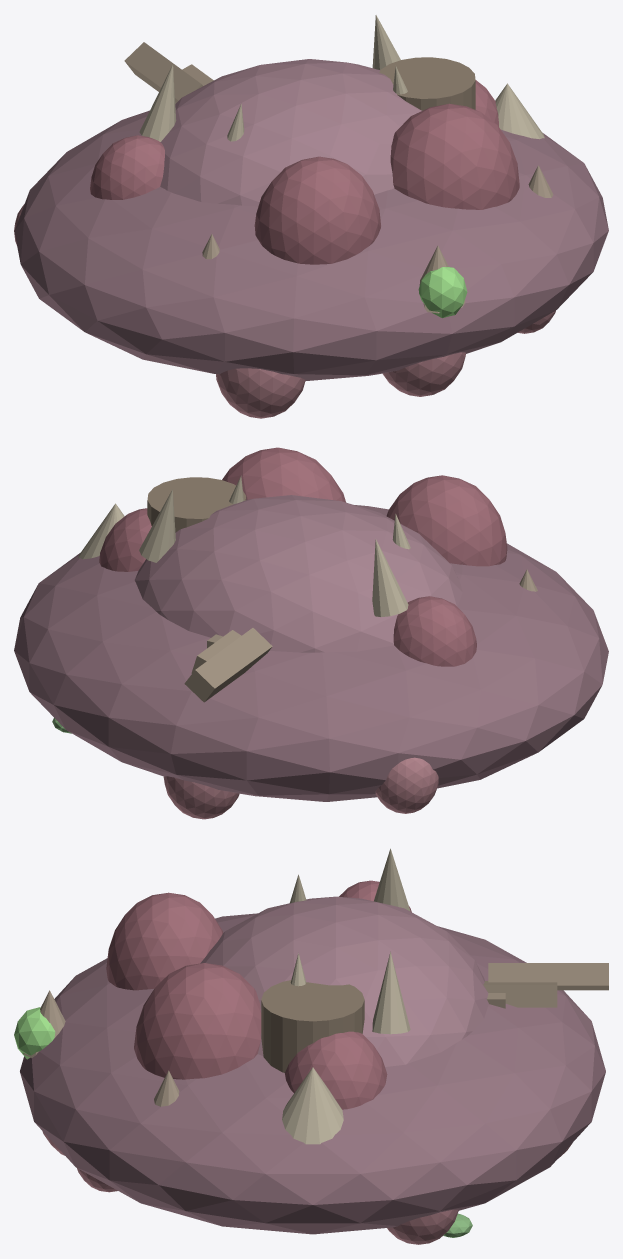
The model's file is zglengo_spitter_den.glb.
3 views of the same model, one above another, from view 1: azimuth 30°, elevation 25°; view 2: azimuth 150°, elevation 25°; view 3: azimuth 270°, elevation 25° (orthographic). The views are drawn at different scales.
Visible parts, largest first — view 1: base_mound, back_mass, breathe_sac_3, breathe_sac_2, breathe_sac_0, gun_organ, bubo_2, bubo_5, rib_4, acid_sac, spine_2, muzzle (+2 smaller); view 2: base_mound, back_mass, breathe_sac_2, breathe_sac_0, breathe_sac_3, gun_organ, rib_4, bubo_0, breathe_sac_1, bubo_4, spine_2, spine_3 (+2 smaller); view 3: base_mound, back_mass, breathe_sac_3, breathe_sac_2, gun_organ, breathe_sac_1, muzzle, rib_4, spine_3, rib_3, bubo_1, acid_sac (+4 smaller).
Boxes of the visible parts, left/top/right/bottom form: base_mound: left=14, top=110, right=608, bottom=381; back_mass: left=160, top=59, right=421, bottom=206; breathe_sac_3: left=390, top=103, right=519, bottom=209; breathe_sac_2: left=254, top=156, right=380, bottom=264; breathe_sac_0: left=90, top=135, right=164, bottom=199; gun_organ: left=379, top=57, right=475, bottom=110; bubo_2: left=216, top=368, right=305, bottom=418; bubo_5: left=383, top=352, right=465, bottom=396; rib_4: left=124, top=42, right=202, bottom=103; acid_sac: left=418, top=267, right=467, bottom=318; spine_2: left=139, top=64, right=176, bottom=141; muzzle: left=495, top=83, right=544, bottom=139; base_mound: left=14, top=505, right=608, bottom=801; back_mass: left=134, top=495, right=462, bottom=652; breathe_sac_2: left=386, top=475, right=507, bottom=566; breathe_sac_0: left=393, top=596, right=476, bottom=666; breathe_sac_3: left=222, top=447, right=345, bottom=502; gun_organ: left=147, top=477, right=246, bottom=532; rib_4: left=184, top=628, right=272, bottom=702; bubo_0: left=375, top=757, right=438, bottom=813; breathe_sac_1: left=99, top=508, right=151, bottom=571; bubo_4: left=163, top=776, right=239, bottom=819; spine_2: left=372, top=539, right=408, bottom=616; spine_3: left=139, top=489, right=175, bottom=562; base_mound: left=20, top=913, right=605, bottom=1234; back_mass: left=200, top=896, right=488, bottom=1066; breathe_sac_3: left=134, top=963, right=261, bottom=1079; breathe_sac_2: left=106, top=892, right=223, bottom=990; gun_organ: left=261, top=980, right=364, bottom=1072; breathe_sac_1: left=285, top=1031, right=387, bottom=1109; muzzle: left=282, top=1067, right=343, bottom=1144; rib_4: left=488, top=963, right=608, bottom=990; spine_3: left=372, top=951, right=410, bottom=1034; rib_3: left=483, top=981, right=557, bottom=1007; bubo_1: left=387, top=1209, right=458, bottom=1244; acid_sac: left=14, top=1007, right=55, bottom=1059.
Bounding box in the file's own units: 2.2 × 1.02 × 2.07.
